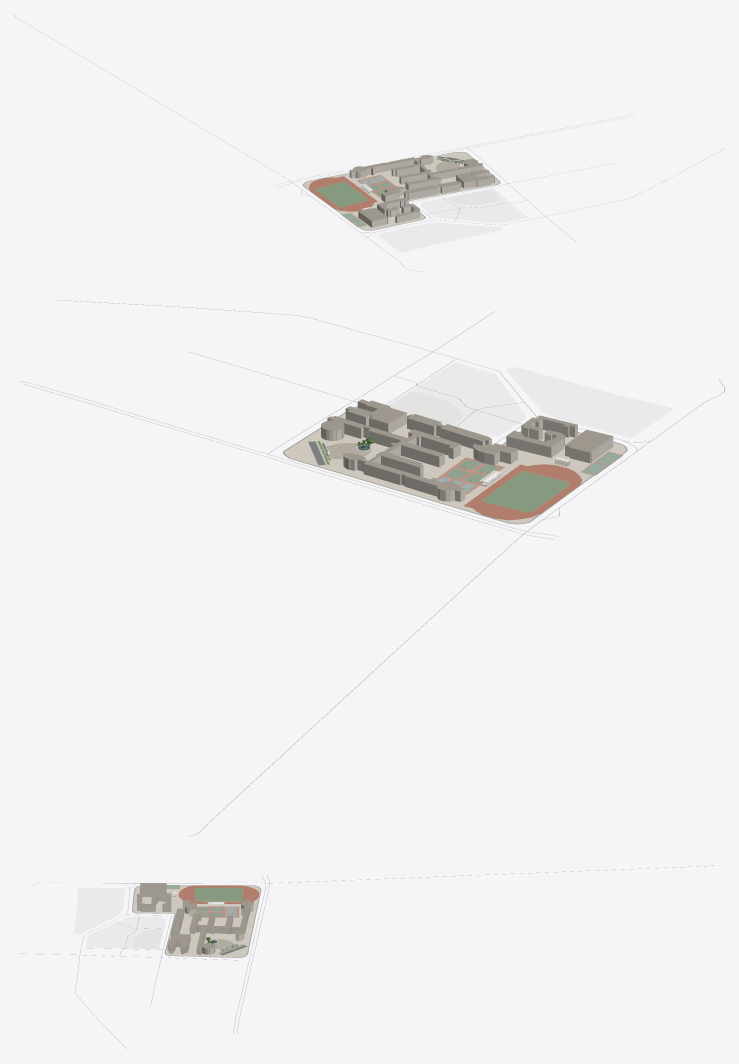
File: gate_campus_current-edited-20261027-2338-fixed.glb
The picture shows the model from 3 angles, top to bottom: view 1: azimuth 30°, elevation 25°; view 2: azimuth 150°, elevation 25°; view 3: azimuth 270°, elevation 25°; orthographic projection. The views are drawn at different scales.
Parts seen in each view (by area): view 1: landuse, ground, linework_777b72_x11, track_surface_1, pitch_football_surface_2, building_1189318109_7; view 2: landuse, ground, linework_777b72_x11, track_surface_1, pitch_football_surface_2, building_1189318109_7; view 3: landuse, ground, linework_777b72_x11, pitch_football_surface_2, track_surface_1.
Part boxes in pixels (box(x1,y1,x2,y2)): landuse: box(378, 189, 524, 252); ground: box(302, 151, 500, 230); linework_777b72_x11: box(14, 14, 724, 271); track_surface_1: box(309, 176, 377, 211); pitch_football_surface_2: box(316, 182, 368, 207); building_1189318109_7: box(349, 160, 414, 178); landuse: box(388, 362, 673, 437); ground: box(283, 406, 627, 524); linework_777b72_x11: box(20, 300, 724, 836); track_surface_1: box(464, 464, 582, 520); pitch_football_surface_2: box(482, 471, 570, 512); building_1189318109_7: box(363, 464, 465, 501); landuse: box(74, 888, 166, 948); ground: box(132, 885, 261, 957); linework_777b72_x11: box(14, 865, 722, 1048); pitch_football_surface_2: box(195, 887, 242, 901); track_surface_1: box(178, 885, 259, 903).
Size of what is drawn, in the model's own units: 963 by 15.38 by 1572.
Materials: 88 (3 with a texture image).
